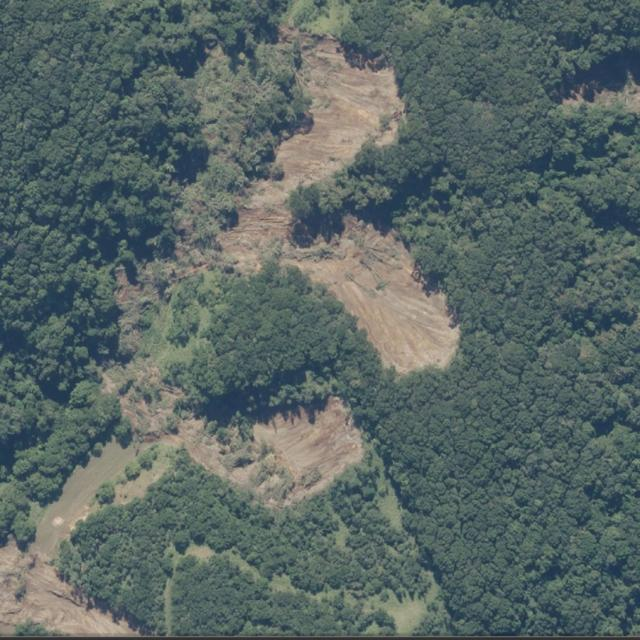landslide: (0, 28, 460, 637)
